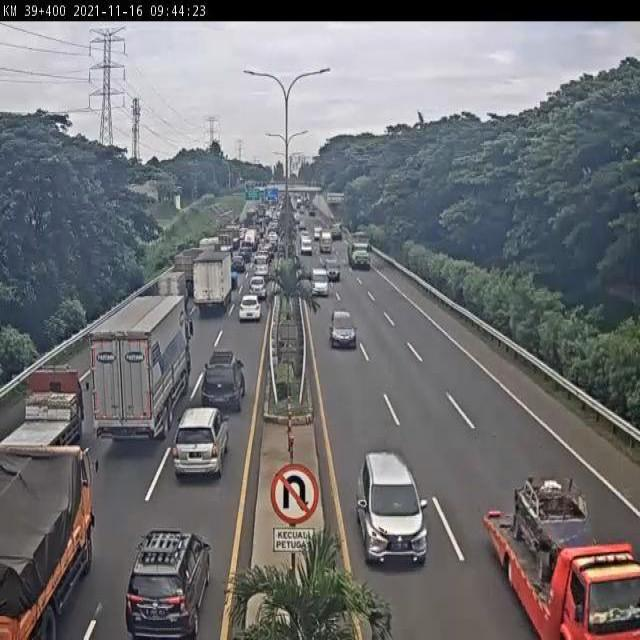car: (126, 529, 211, 640), (357, 450, 431, 570), (172, 405, 229, 479), (200, 349, 247, 414), (329, 308, 358, 351), (239, 293, 261, 323), (310, 268, 329, 301), (323, 257, 340, 284), (250, 278, 267, 302)
small truck: (484, 472, 640, 640), (160, 269, 189, 316)
truck-l-: (92, 295, 194, 444), (347, 232, 371, 271)
truck-m-: (0, 366, 91, 478), (193, 250, 234, 318)
